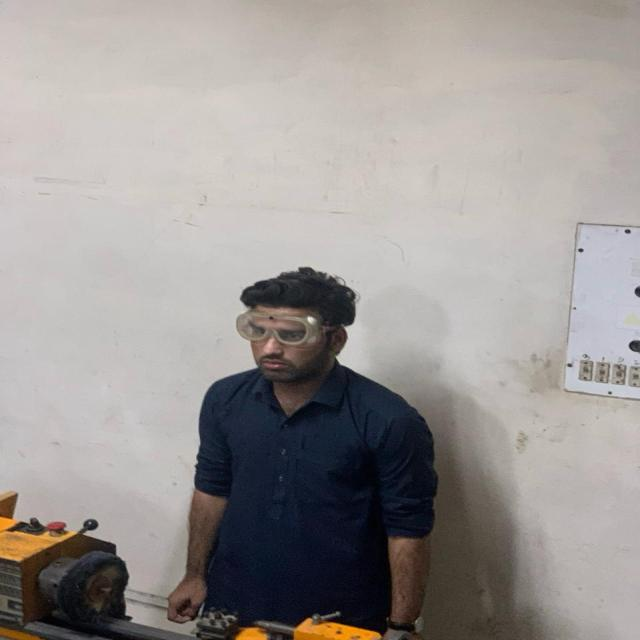googles: (234, 310, 318, 346)
